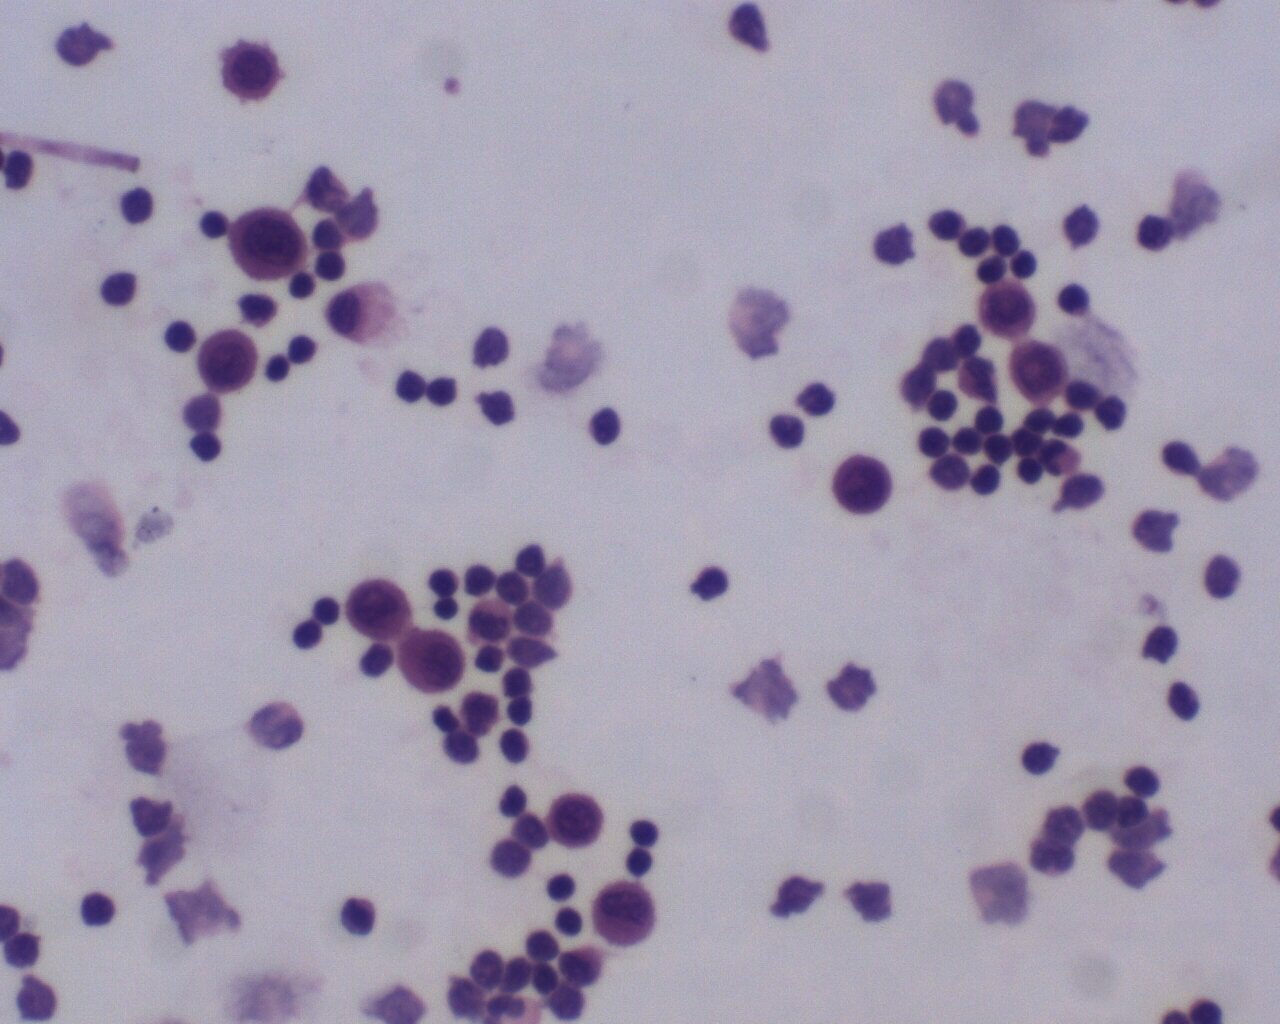ab: (224, 201, 312, 284), (340, 574, 413, 643), (398, 626, 468, 697), (829, 455, 897, 521), (197, 326, 264, 393), (219, 37, 284, 103), (1008, 338, 1069, 409), (975, 276, 1039, 340), (544, 790, 608, 847)
lymph: (98, 265, 147, 310), (161, 318, 203, 357), (1051, 277, 1091, 319), (496, 728, 535, 770), (697, 561, 734, 605), (392, 365, 427, 408), (588, 406, 623, 450), (286, 619, 325, 657), (188, 429, 226, 467), (552, 905, 591, 939), (197, 203, 228, 247), (287, 330, 318, 372), (423, 564, 459, 599), (625, 814, 662, 846), (501, 697, 537, 727)
meso: (594, 877, 665, 953)
neutro: (768, 406, 810, 451)
